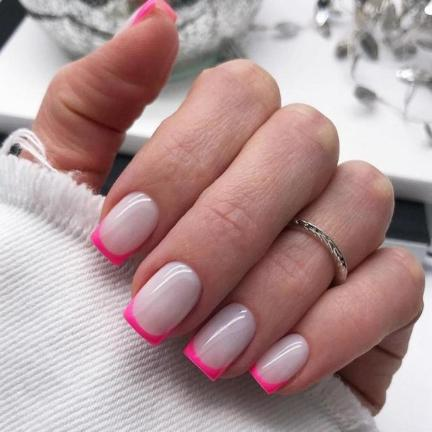Nail: (122, 260, 204, 346), (183, 302, 257, 382), (90, 190, 161, 266), (249, 333, 310, 395)
